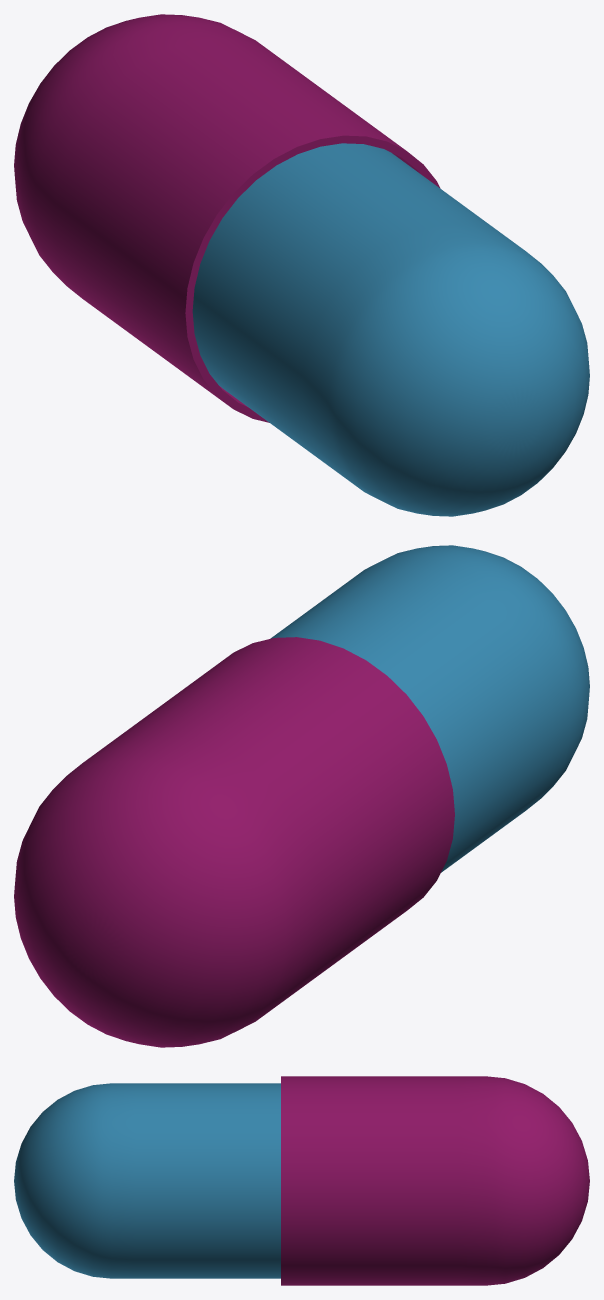
The picture shows the model from 3 angles, top to bottom: view 1: azimuth 30°, elevation 25°; view 2: azimuth 150°, elevation 25°; view 3: azimuth 270°, elevation 25°; orthographic projection. The views are drawn at different scales.
Parts seen in each view (by area): view 1: Object_2, Object_3; view 2: Object_3, Object_2; view 3: Object_3, Object_2.
Part boxes in pixels (x1,y1,x2,y2): Object_2: [192, 143, 589, 516]; Object_3: [14, 14, 440, 422]; Object_3: [14, 637, 454, 1047]; Object_2: [270, 545, 589, 872]; Object_3: [281, 1076, 589, 1285]; Object_2: [14, 1083, 280, 1278].
Size of the model in its own units: 1.09 by 1.09 by 2.99.
